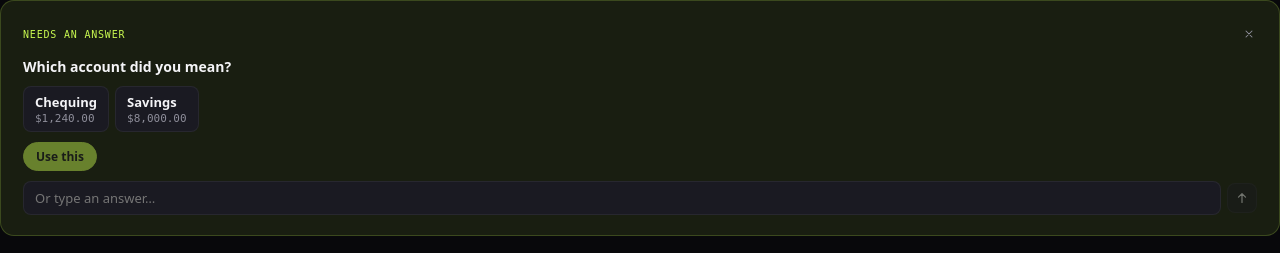
Scenario: ClarificationCard › multi-select can deselect
What coordinates should you click on to do the following:
click the checkbox labelled "Chequing $1,240.00"
I would click on:
 (66, 109)
Its box is [23,86,109,132].
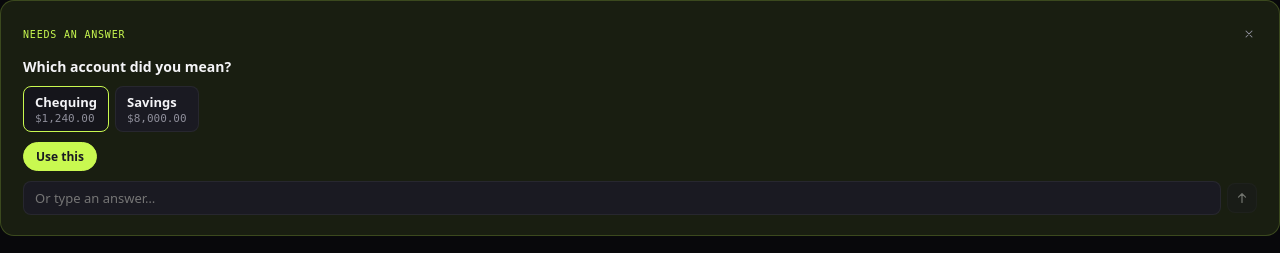
What coordinates should you click on to do the following:
click the checkbox labelled "Chequing $1,240.00"
I would click on:
 (66, 109)
Its box is [23,86,109,132].
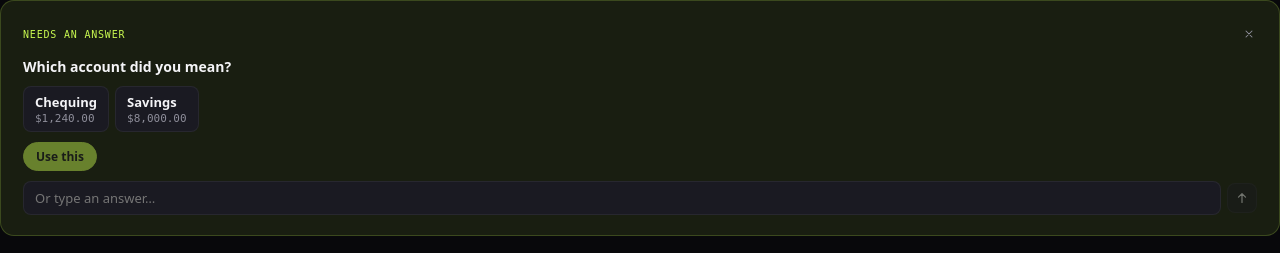
expect the button "Use this" is disabled: met, box [23,142,97,171]
